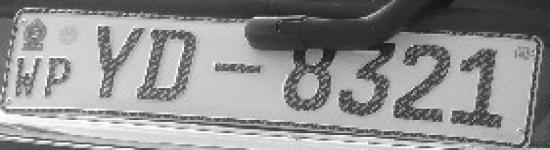-: (209, 58, 264, 80)
1: (454, 38, 508, 133)
2: (397, 36, 454, 128)
3: (336, 36, 396, 118)
8: (279, 34, 339, 116)
D: (134, 27, 202, 103)
P: (44, 54, 75, 102)
W: (11, 52, 44, 99)
Y: (86, 21, 144, 102)
